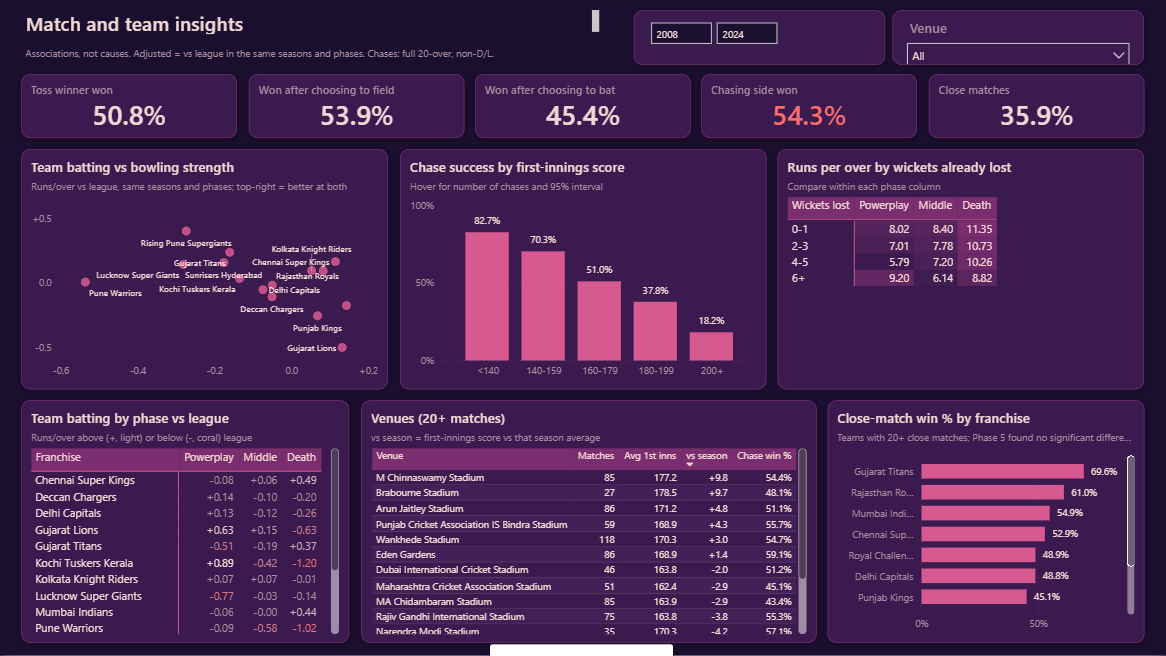

Layout of this report page (visuals, bound fields, positions):
{"tool":"powerbi","page":{"name":"Match and team insights","canvas":[1280,720],"ordinal":2},"visuals":[{"type":"textbox","box":[18,4,650,42],"z":100},{"type":"textbox","box":[18,42,664,34],"z":200},{"type":"slicer","fields":{"Values":["DimSeason.Season"]},"box":[696,12,276,60],"z":300},{"type":"slicer","fields":{"Values":["DimVenue.Venue"]},"box":[980,12,276,60],"z":400},{"type":"card","title":"Toss winner won","fields":{"Values":["_Measures.Toss Winner Win %"]},"box":[24,82,236.8,70],"z":500},{"type":"card","title":"Won after choosing to field","fields":{"Values":["_Measures.Toss Winner Win % (chose field)"]},"box":[272.8,82,236.8,70],"z":600},{"type":"card","title":"Won after choosing to bat","fields":{"Values":["_Measures.Toss Winner Win % (chose bat)"]},"box":[521.6,82,236.8,70],"z":700},{"type":"card","title":"Chasing side won","fields":{"Values":["_Measures.Chasing Win %"]},"box":[770.4,82,236.8,70],"z":800},{"type":"card","title":"Close matches","fields":{"Values":["_Measures.Close Match %"]},"box":[1019.2,82,236.8,70],"z":900},{"type":"scatterChart","title":"Team batting vs bowling strength","fields":{"Category":["DimTeam.Franchise"],"X":["_Measures.Team Batting vs League"],"Y":["_Measures.Team Runs Saved vs League"]},"box":[24,164,402.7,264],"z":1000},{"type":"clusteredColumnChart","title":"Chase success by first-innings score","fields":{"Category":["FactMatch.First-innings band"],"Y":["_Measures.Chase Success %"]},"box":[438.7,164,402.7,264],"z":1100},{"type":"pivotTable","title":"Runs per over by wickets already lost","fields":{"Rows":["FactDelivery.Wickets lost before ball"],"Columns":["DimPhase.Phase"],"Values":["_Measures.Run Rate"]},"box":[853.3,164,402.7,264],"z":1200},{"type":"pivotTable","title":"Team batting by phase vs league","fields":{"Rows":["DimTeam.Franchise"],"Columns":["DimPhase.Phase"],"Values":["_Measures.Team Batting vs League"]},"box":[24,440,360,266],"z":1300},{"type":"tableEx","title":"Venues (20+ matches)","fields":{"Values":["DimVenue.Venue","_Measures.Venue Full Matches (min 20)","_Measures.Venue Avg First Innings (min 20)","_Measures.Venue vs Season (min 20)","_Measures.Venue Chase Win % (min 20)"]},"box":[396,440,500,266],"z":1400},{"type":"clusteredBarChart","title":"Close-match win % by franchise","fields":{"Category":["DimTeam.Franchise"],"Y":["_Measures.Close Match Win % (min 20)"]},"box":[908,440,348,266],"z":1500}]}

Visuals, with their boxes in screenshot pixels (x1, y1, x2, y2), scaled from the page's 1280x720 canvas onto the 1166x656 screenshot:
textbox: [16, 4, 609, 42]
textbox: [16, 38, 621, 69]
slicer - DimSeason.Season: [634, 11, 885, 66]
slicer - DimVenue.Venue: [893, 11, 1144, 66]
"Toss winner won" card: [22, 75, 238, 138]
"Won after choosing to field" card: [249, 75, 464, 138]
"Won after choosing to bat" card: [475, 75, 691, 138]
"Chasing side won" card: [702, 75, 917, 138]
"Close matches" card: [928, 75, 1144, 138]
"Team batting vs bowling strength" scatterChart: [22, 149, 389, 390]
"Chase success by first-innings score" clusteredColumnChart: [400, 149, 766, 390]
"Runs per over by wickets already lost" pivotTable: [777, 149, 1144, 390]
"Team batting by phase vs league" pivotTable: [22, 401, 350, 643]
"Venues (20+ matches)" tableEx: [361, 401, 816, 643]
"Close-match win % by franchise" clusteredBarChart: [827, 401, 1144, 643]
